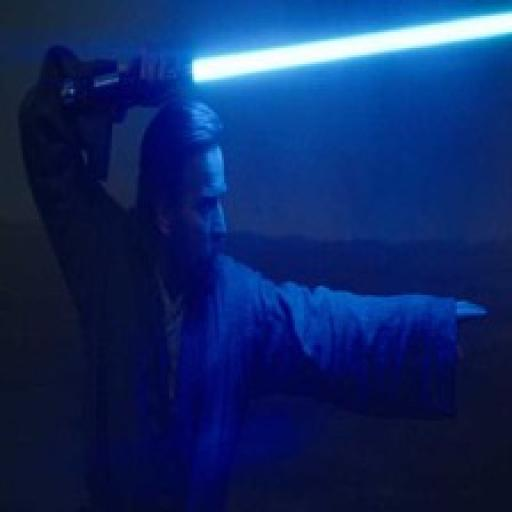human: (29, 48, 512, 512)
lightsaber: (53, 2, 512, 106)
